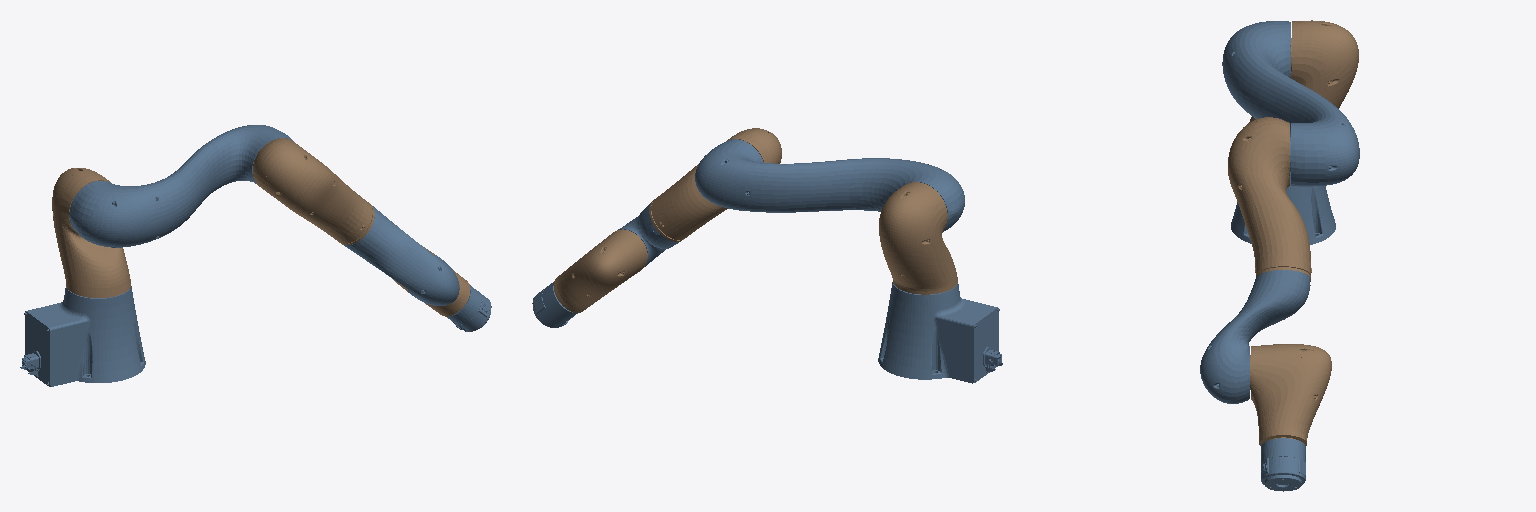
The robot description file, URDF, robot "hsr_co605":
<robot
  name="hsr_co605">

  <link name="world"/>

  <joint name="fixed" type="fixed">
    <parent link="world"/>
    <child link="base_link"/>
	<origin
      xyz="0 0 1"
      rpy="0 0 0" />
  </joint> 

  <link
    name="base_link">
    <inertial>
      <origin
        xyz="-0.021912 3.5206E-07 0.072666"
        rpy="0 0 0" />
      <mass
        value="3.5836" />
      <inertia
        ixx="2.9136E-05"
        ixy="-2.1811E-09"
        ixz="-0.00010967"
        iyy="0.00060536"
        iyz="-4.5389E-10"
        izz="0.000578" />
    </inertial>
    <visual>
      <origin
        xyz="0 0 0"
        rpy="0 0 0" />
      <geometry>
        <mesh
          filename="package://hsr_description/meshes/co605/base_link.STL" />
      </geometry>
      <material
        name="">
        <color
          rgba="0.4 0.5 0.6 1" />
      </material>
    </visual>
    <collision>
      <origin
        xyz="0 0 0"
        rpy="0 0 0" />
      <geometry>
        <mesh
          filename="package://hsr_description/meshes/co605/base_link.STL" />
      </geometry>
    </collision>
  </link>
  <link
    name="link1">
    <inertial>
      <origin
        xyz="6.6053E-07 -0.041864 0.057461"
        rpy="0 0 0" />
      <mass
        value="2.2858" />
      <inertia
        ixx="0.0028736"
        ixy="-1.2977E-08"
        ixz="-1.1421E-08"
        iyy="0.0012558"
        iyz="-0.0014242"
        izz="0.001619" />
    </inertial>
    <visual>
      <origin
        xyz="0 0 0"
        rpy="0 0 0" />
      <geometry>
        <mesh
          filename="package://hsr_description/meshes/co605/link1.STL" />
      </geometry>
      <material
        name="">
        <color
          rgba="0.6 0.5 0.4 1" />
      </material>
    </visual>
    <collision>
      <origin
        xyz="0 0 0"
        rpy="0 0 0" />
      <geometry>
        <mesh
          filename="package://hsr_description/meshes/co605/link1.STL" />
      </geometry>
    </collision>
  </link>
  <joint
    name="joint_1"
    type="revolute">
    <origin
      xyz="0 0 0.3215"
      rpy="-3.1416 5.9903E-29 -1.4937E-16" />
    <parent
      link="base_link" />
    <child
      link="link1" />
    <axis
      xyz="0 0 -1" />
    <limit
      lower="-3.490658503988"
      upper="3.490658503988"
      effort="28"
      velocity="3.2" />
    <safety_controller
      soft_upper_limit="3.481931857728"
      soft_lower_limit="-3.481931857728"
      k_position="100"
      k_velocity="10" />
  </joint>
  <link
    name="link2">
    <inertial>
      <origin
        xyz="1.0568E-05 -0.1934 0.0072764"
        rpy="0 0 0" />
      <mass
        value="3.9796" />
      <inertia
        ixx="0.024928"
        ixy="-9.3143E-07"
        ixz="4.2908E-07"
        iyy="0.0049988"
        iyz="0.0099684"
        izz="0.019932" />
    </inertial>
    <visual>
      <origin
        xyz="0 0 0"
        rpy="0 0 0" />
      <geometry>
        <mesh
          filename="package://hsr_description/meshes/co605/link2.STL" />
      </geometry>
      <material
        name="">
        <color
          rgba="0.4 0.5 0.6 1" />
      </material>
    </visual>
    <collision>
      <origin
        xyz="0 0 0"
        rpy="0 0 0" />
      <geometry>
        <mesh
          filename="package://hsr_description/meshes/co605/link2.STL" />
      </geometry>
    </collision>
  </link>
  <joint
    name="joint_2"
    type="revolute">
    <origin
      xyz="0 0 0"
      rpy="1.5708 -1.5708 0" />
    <parent
      link="link1" />
    <child
      link="link2" />
    <axis
      xyz="0 0 1" />
    <limit
      lower="-2.268928027592"
      upper="1"
      effort="28"
      velocity="3.2" />
    <safety_controller
      soft_upper_limit="1"
      soft_lower_limit="-2.260201381332"
      k_position="100"
      k_velocity="10" />
  </joint>
  <link
    name="link3">
    <inertial>
      <origin
        xyz="-4.1646E-06 -0.084864 -0.023661"
        rpy="0 0 0" />
      <mass
        value="2.3017" />
      <inertia
        ixx="0.0050619"
        ixy="1.9871E-07"
        ixz="-9.377E-08"
        iyy="0.00080339"
        iyz="0.0014584"
        izz="0.0043189" />
    </inertial>
    <visual>
      <origin
        xyz="0 0 0"
        rpy="0 0 0" />
      <geometry>
        <mesh
          filename="package://hsr_description/meshes/co605/link3.STL" />
      </geometry>
      <material
        name="">
        <color
          rgba="0.6 0.5 0.4 1" />
      </material>
    </visual>
    <collision>
      <origin
        xyz="0 0 0"
        rpy="0 0 0" />
      <geometry>
        <mesh
          filename="package://hsr_description/meshes/co605/link3.STL" />
      </geometry>
    </collision>
  </link>
  <joint
    name="joint_3"
    type="revolute">
    <origin
      xyz="0 -0.4 0"
      rpy="-7.0321E-15 1.0327E-14 -1.5708" />
    <parent
      link="link2" />
    <child
      link="link3" />
    <axis
      xyz="0 0 1" />
    <limit
      lower="1"
      upper="3.665191429188"
      effort="28"
      velocity="3.2" />
    <safety_controller
      soft_upper_limit="3.656464782928"
      soft_lower_limit="0.008726646259"
      k_position="100"
      k_velocity="10" />
  </joint>
  <link
    name="link4">
    <inertial>
      <origin
        xyz="0.058545 -4.4729E-06 0.33207"
        rpy="0 0 0" />
      <mass
        value="1.1696" />
      <inertia
        ixx="0.00052342"
        ixy="-2.9755E-08"
        ixz="-0.0004967"
        iyy="0.00099547"
        iyz="-3.1299E-08"
        izz="0.00047263" />
    </inertial>
    <visual>
      <origin
        xyz="0 0 0"
        rpy="0 0 0" />
      <geometry>
        <mesh
          filename="package://hsr_description/meshes/co605/link4.STL" />
      </geometry>
      <material
        name="">
        <color
          rgba="0.4 0.5 0.6 1" />
      </material>
    </visual>
    <collision>
      <origin
        xyz="0 0 0"
        rpy="0 0 0" />
      <geometry>
        <mesh
          filename="package://hsr_description/meshes/co605/link4.STL" />
      </geometry>
    </collision>
  </link>
  <joint
    name="joint_4"
    type="revolute">
    <origin
      xyz="0 0 0"
      rpy="1.5708 1.5708 0" />
    <parent
      link="link3" />
    <child
      link="link4" />
    <axis
      xyz="0 0 1" />
    <limit
      lower="-3.0"
      upper="3.0"
      effort="28"
      velocity="3.2" />
    <safety_controller
      soft_upper_limit="3.0"
      soft_lower_limit="-3.0"
      k_position="100"
      k_velocity="10" />
  </joint>
  <link
    name="link5">
    <inertial>
      <origin
        xyz="-1.4755E-07 -0.034466 0.0044663"
        rpy="0 0 0" />
      <mass
        value="1.4115" />
      <inertia
        ixx="0.0015897"
        ixy="-6.782E-09"
        ixz="-1.3146E-08"
        iyy="0.0006121"
        iyz="-0.00040625"
        izz="0.00097818" />
    </inertial>
    <visual>
      <origin
        xyz="0 0 0"
        rpy="0 0 0" />
      <geometry>
        <mesh
          filename="package://hsr_description/meshes/co605/link5.STL" />
      </geometry>
      <material
        name="">
        <color
          rgba="0.6 0.5 0.4 1" />
      </material>
    </visual>
    <collision>
      <origin
        xyz="0 0 0"
        rpy="0 0 0" />
      <geometry>
        <mesh
          filename="package://hsr_description/meshes/co605/link5.STL" />
      </geometry>
    </collision>
  </link>
  <joint
    name="joint_5"
    type="revolute">
    <origin
      xyz="0 0 0.4"
      rpy="-1.5708 -3.2281E-16 1.5708" />
    <parent
      link="link4" />
    <child
      link="link5" />
    <axis
      xyz="0 0 1" />
    <limit
      lower="-2.268928027592"
      upper="2.268928027592"
      effort="28"
      velocity="3.2" />
    <safety_controller
      soft_upper_limit="2.260201381332"
      soft_lower_limit="-2.260201381332"
      k_position="100"
      k_velocity="10" />
  </joint>
  <link
    name="link6">
    <inertial>
      <origin
        xyz="-9.6295E-05 0.00016669 -0.035518"
        rpy="0 0 0" />
      <mass
        value="0.30888" />
      <inertia
        ixx="8.8278E-05"
        ixy="-1.1971E-06"
        ixz="3.4899E-07"
        iyy="8.9661E-05"
        iyz="-6.0395E-07"
        izz="5.5013E-06" />
    </inertial>
    <visual>
      <origin
        xyz="0 0 0"
        rpy="0 0 0" />
      <geometry>
        <mesh
          filename="package://hsr_description/meshes/co605/link6.STL" />
      </geometry>
      <material
        name="">
        <color
          rgba="0.4 0.5 0.6 1" />
      </material>
    </visual>
    <collision>
      <origin
        xyz="0 0 0"
        rpy="0 0 0" />
      <geometry>
        <mesh
          filename="package://hsr_description/meshes/co605/link6.STL" />
      </geometry>
    </collision>
  </link>
  <joint
    name="joint_6"
    type="revolute">
    <origin
      xyz="0 -0.205 0"
      rpy="-1.5708 2.7756E-17 -3.1416" />
    <parent
      link="link5" />
    <child
      link="link6" />
    <axis
      xyz="0 0 1" />
    <limit
      lower="-5.1"
      upper="5.1"
      effort="28"
      velocity="3.2" />
    <safety_controller
      soft_upper_limit="5.1"
      soft_lower_limit="-5.1"
      k_position="100"
      k_velocity="10" />
  </joint>
</robot>

--- Facts derived from the render (not from the file) ---
The picture shows the robot from 3 angles, left to right: view 1: azimuth 30°, elevation 25°; view 2: azimuth 150°, elevation 25°; view 3: azimuth 270°, elevation 25°; orthographic projection.
Robot: hsr_co605 — 8 links, 7 joints (6 revolute, 1 fixed); root link world; default pose: joints at zero except 1 at the middle of their limits (joint_3 = 2.33).
Links seen in each view (by area): view 1: link2, base_link, link3, link1, link4, link6, link5; view 2: link2, base_link, link1, link5, link3, link4, link6; view 3: link2, link3, link5, link4, link1, base_link, link6.
Boxes of the visible links, bbox=[...] form: link2: bbox=[69, 125, 293, 247]; base_link: bbox=[20, 286, 145, 386]; link3: bbox=[253, 138, 374, 244]; link1: bbox=[52, 168, 130, 297]; link4: bbox=[344, 206, 459, 305]; link6: bbox=[447, 285, 491, 331]; link5: bbox=[393, 247, 470, 316]; link2: bbox=[695, 139, 964, 231]; base_link: bbox=[878, 282, 1002, 383]; link1: bbox=[879, 182, 957, 294]; link5: bbox=[553, 229, 647, 312]; link3: bbox=[649, 128, 781, 241]; link4: bbox=[618, 203, 680, 266]; link6: bbox=[532, 282, 577, 327]; link2: bbox=[1222, 21, 1359, 186]; link3: bbox=[1228, 117, 1311, 281]; link5: bbox=[1250, 344, 1331, 445]; link4: bbox=[1200, 270, 1310, 403]; link1: bbox=[1249, 20, 1358, 122]; base_link: bbox=[1231, 172, 1335, 244]; link6: bbox=[1261, 438, 1305, 491].
Size in the robot's own frame: 1.02 by 0.2724 by 0.5003 metres.
7 mesh visuals loaded from 7 distinct referenced files (7 binary STL).